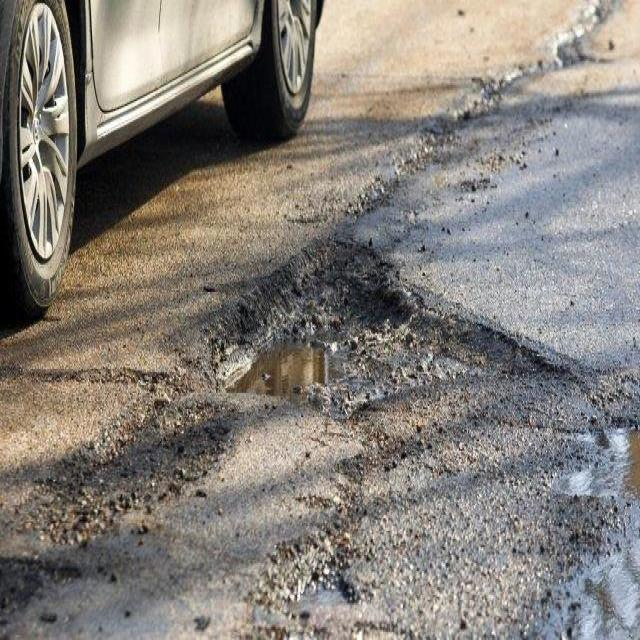jalan retak: (432, 46, 616, 128), (328, 132, 453, 228), (447, 392, 604, 454), (2, 352, 179, 406), (547, 4, 640, 50), (353, 611, 428, 640), (450, 162, 486, 200)
lubang: (195, 234, 417, 433), (25, 400, 241, 532), (394, 273, 576, 398), (248, 511, 375, 640), (525, 509, 640, 640), (552, 375, 640, 542), (295, 435, 430, 530), (0, 532, 84, 640)
